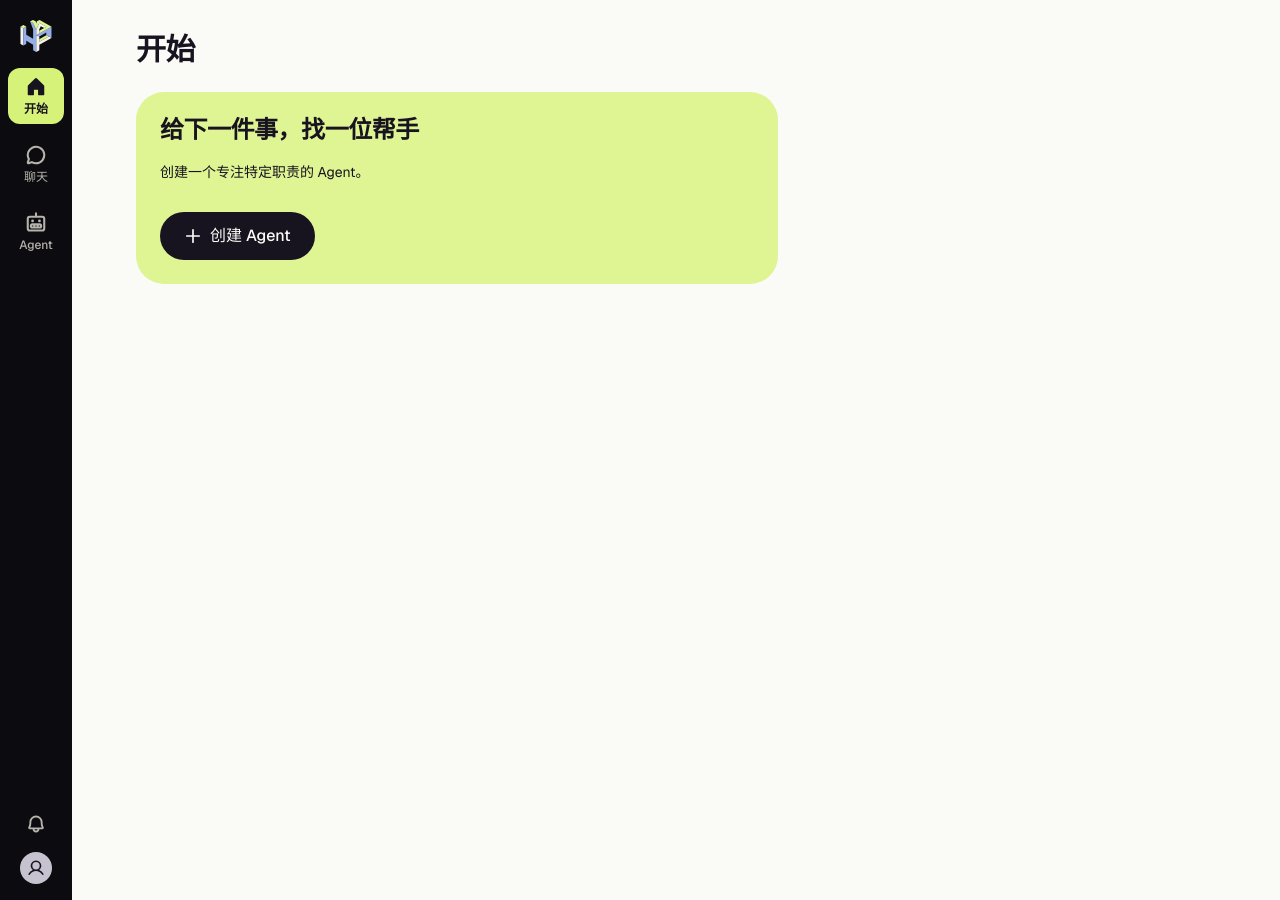
contacts fixture page › renders no create control when the composition has a seed but no gateway
Click the button "Agent".
click(36, 232)  # box x1=8 y1=204 x2=64 y2=260
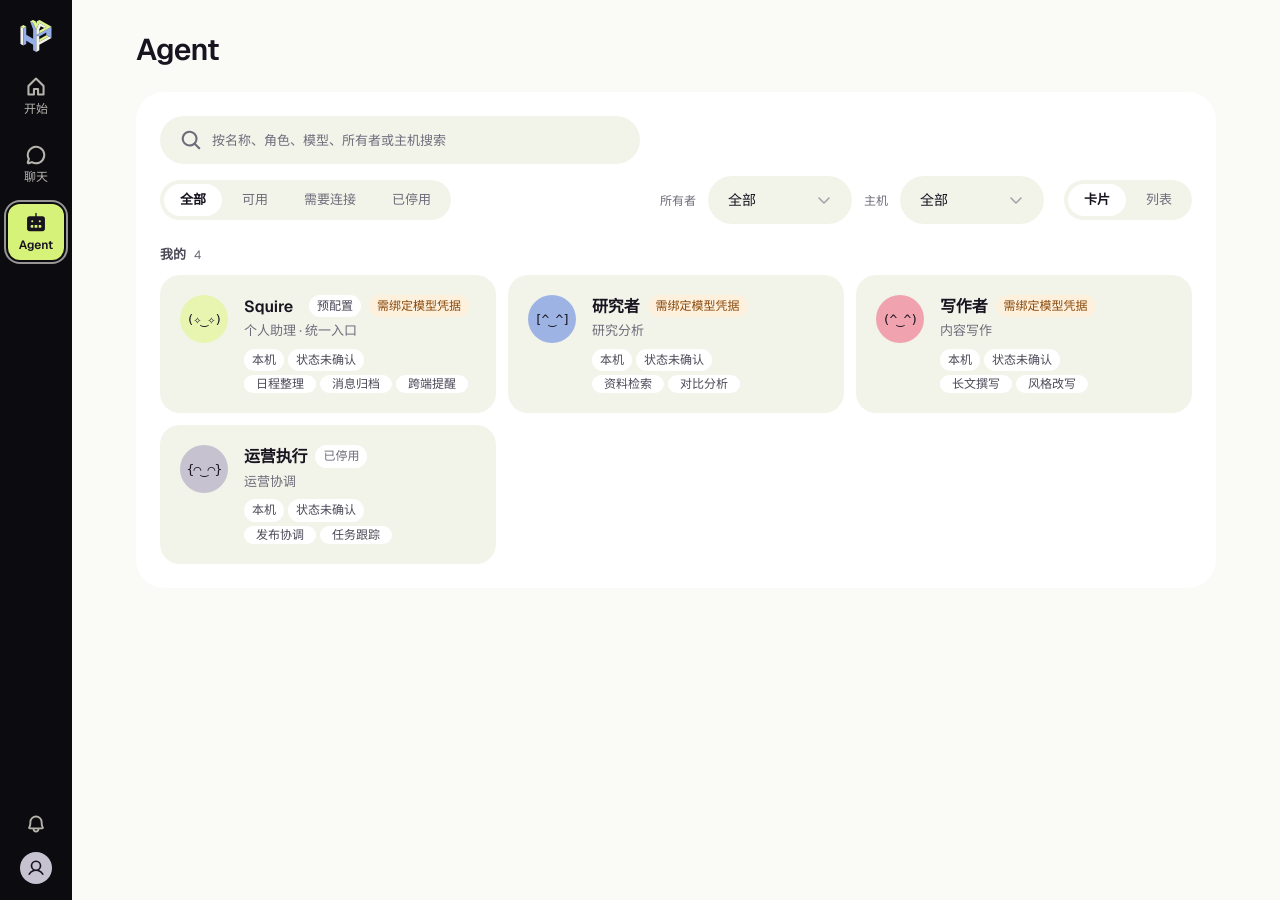
Expected: the button "创建 Agent" is gone
